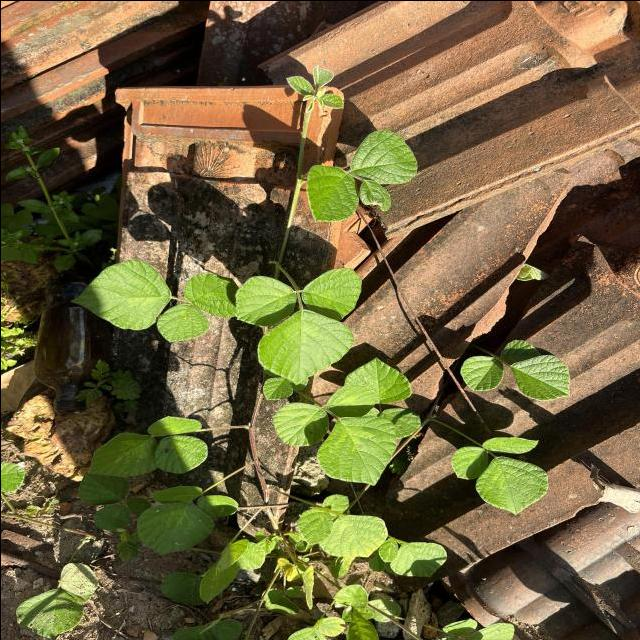Pseudarthria viscida: (232, 266, 362, 385), (68, 258, 238, 344), (270, 381, 397, 486), (449, 435, 548, 515), (85, 414, 208, 476), (134, 484, 239, 554), (458, 337, 571, 401)
